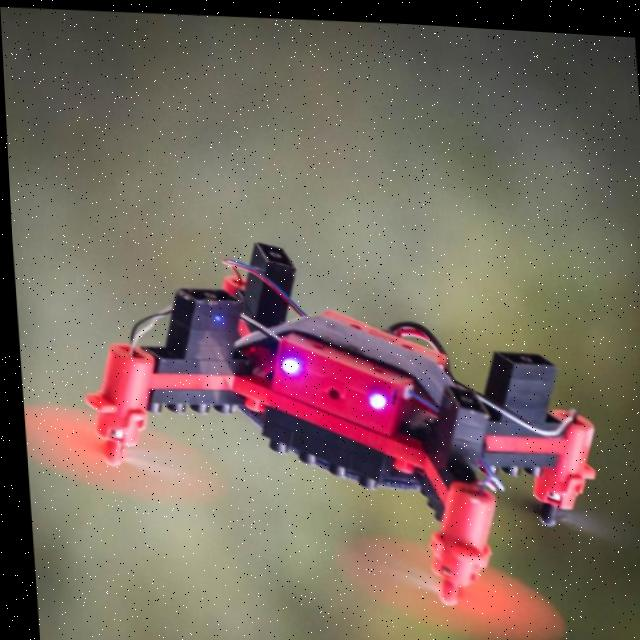drones: (7, 174, 640, 640)
